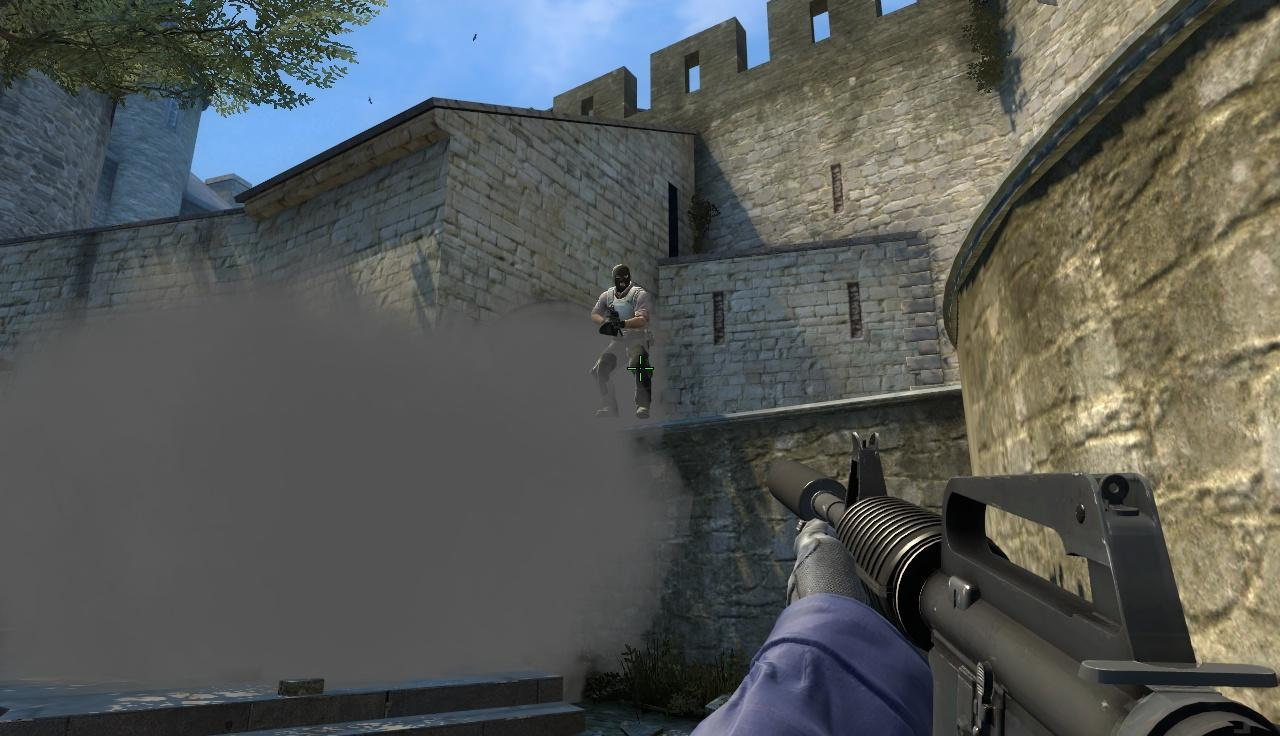rifle: (768, 426, 1280, 731)
tt: (592, 265, 650, 420)
tthead: (611, 264, 631, 291)
